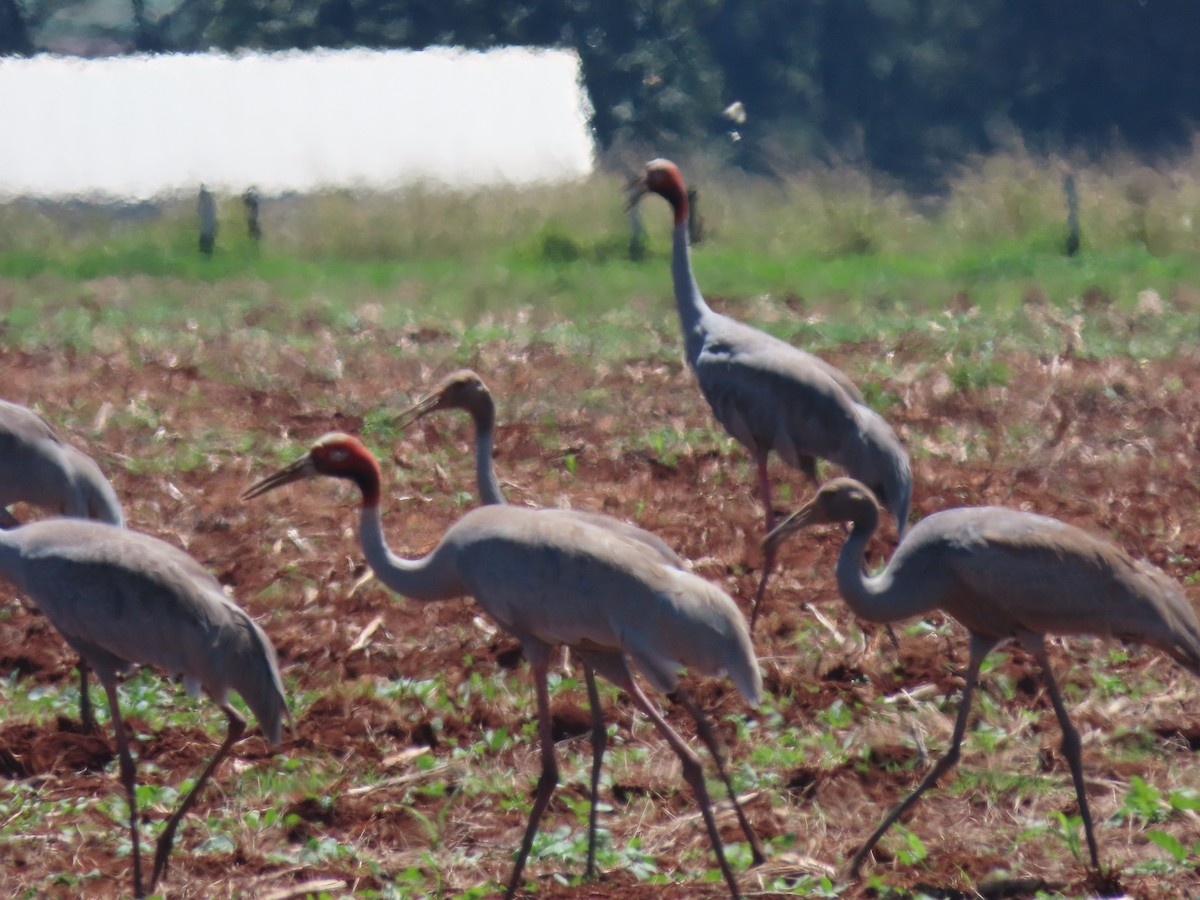crane: (255, 431, 779, 882), (758, 471, 1200, 868), (618, 137, 925, 503), (382, 356, 521, 503)
